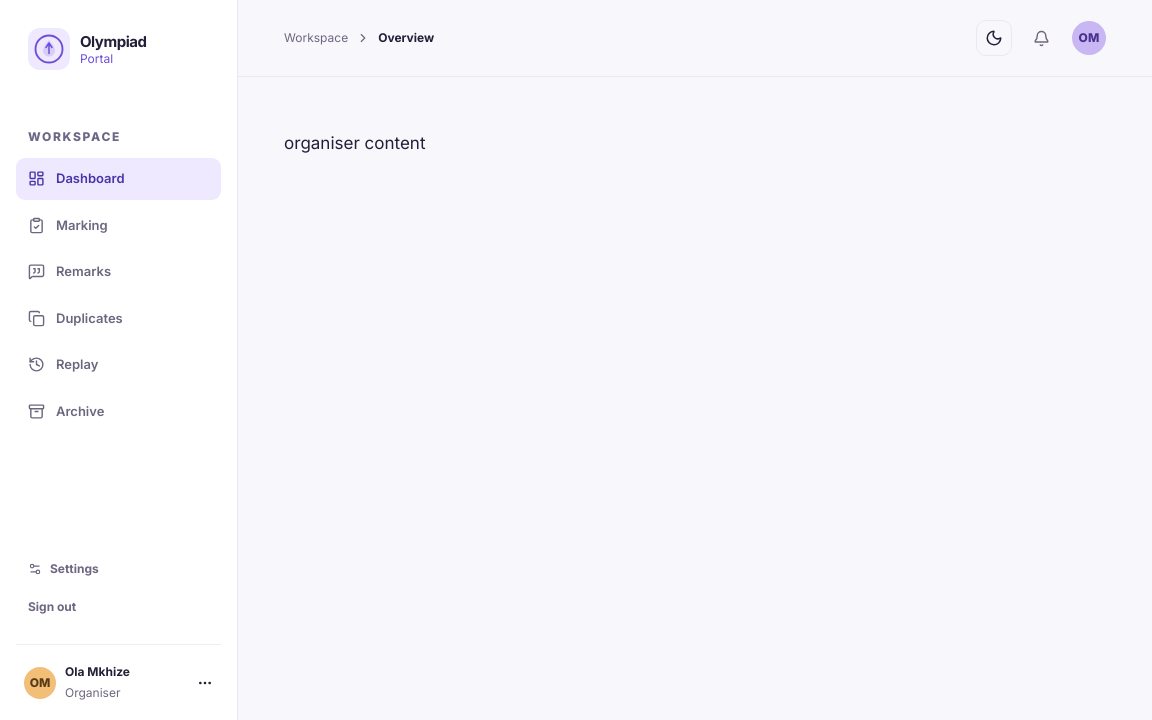
Scenario: OrganiserShell delete account › shows a delete account button in the settings modal
Click the button "Settings": (118,569) x1=16 y1=550 x2=221 y2=588
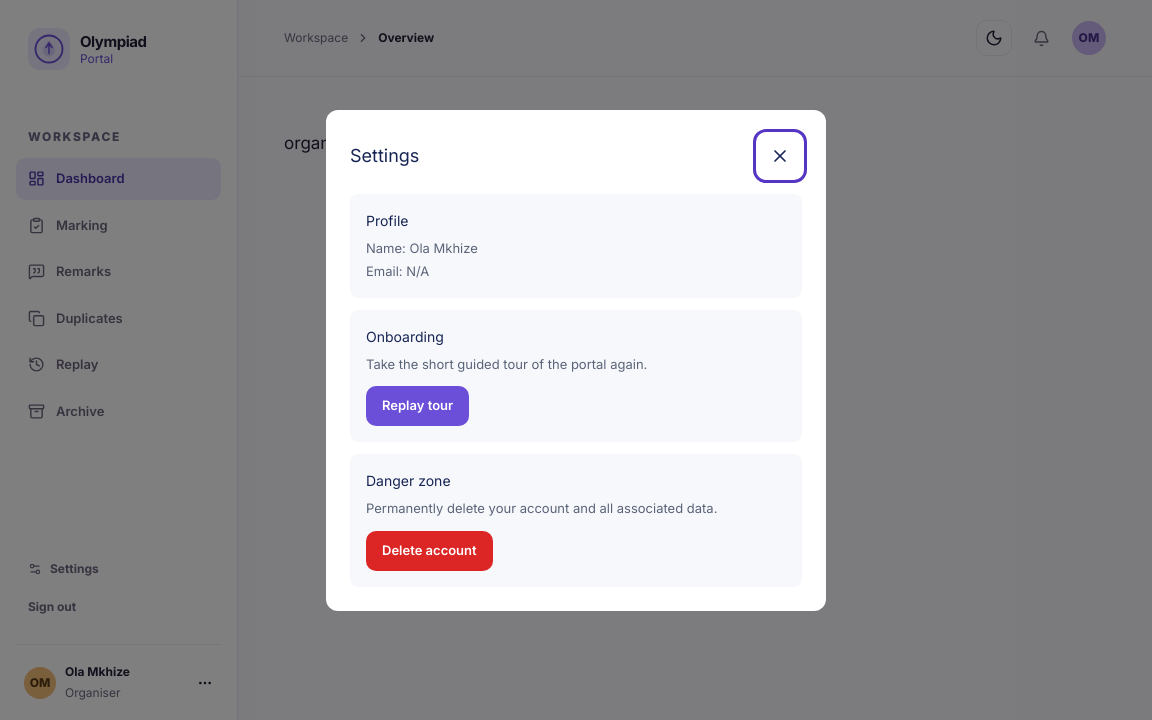
Result: the dialog "Settings" is shown at x1=326 y1=110 x2=826 y2=610
Result: the button "Delete account" is shown at x1=366 y1=530 x2=493 y2=570
